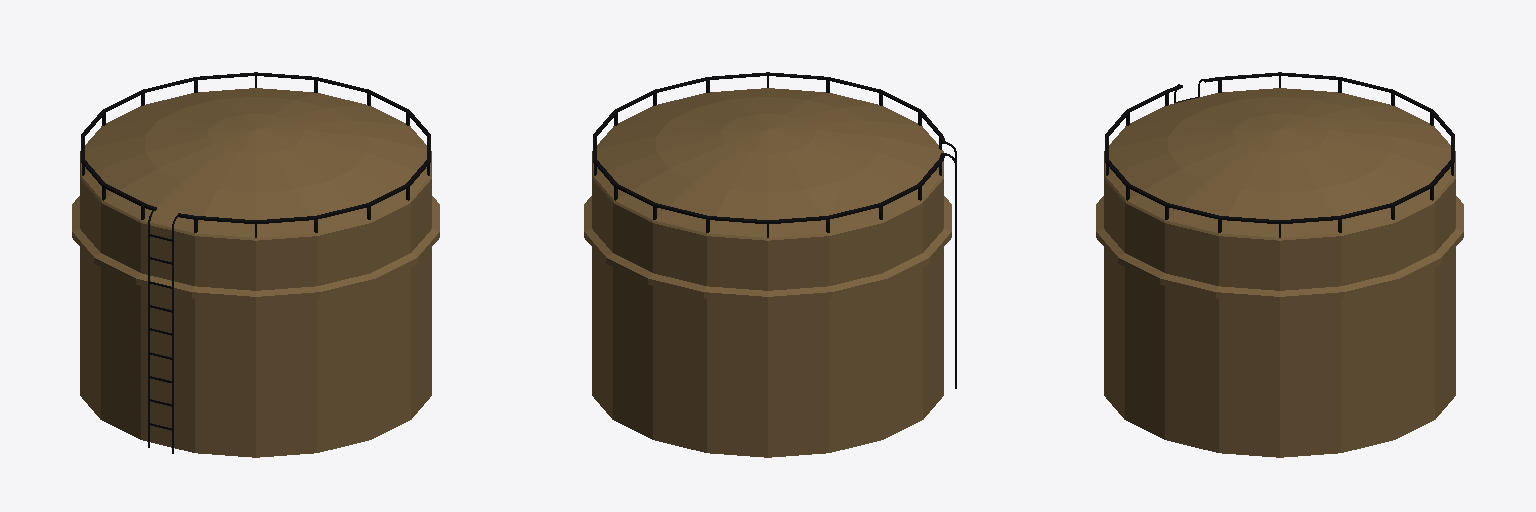
Rendered from Gasolina.obj.
The picture shows the model from 3 angles: view 1: azimuth 30°, elevation 25°; view 2: azimuth 150°, elevation 25°; view 3: azimuth 270°, elevation 25°; orthographic projection.
Visible parts, largest first — view 1: OilStorage_Mesh.010; view 2: OilStorage_Mesh.010; view 3: OilStorage_Mesh.010.
Boxes of the visible parts, x1=… form: OilStorage_Mesh.010: x1=72, y1=72, x2=439, y2=457; OilStorage_Mesh.010: x1=584, y1=72, x2=956, y2=457; OilStorage_Mesh.010: x1=1096, y1=72, x2=1463, y2=457.
Size of the model in its own units: 2.86 by 2.14 by 2.82.